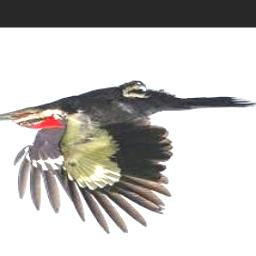Woodpecker: (0, 80, 255, 235)
